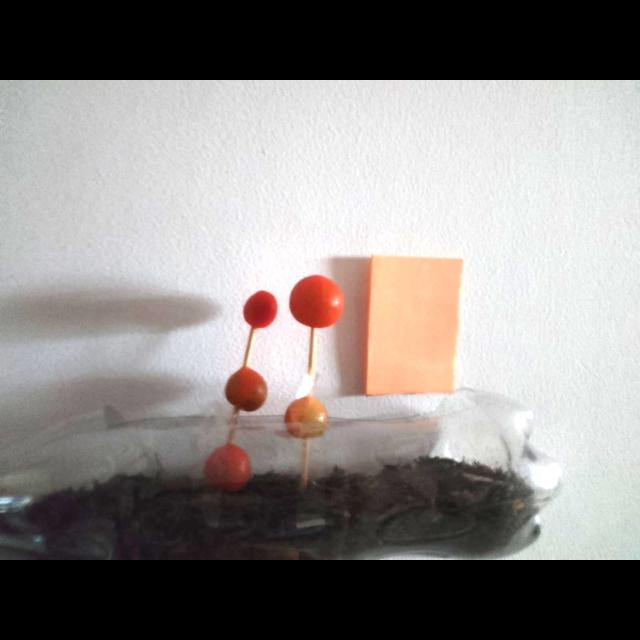card: (365, 256, 462, 395)
fruit_maturation: (285, 395, 328, 439)
fully_grown: (289, 275, 343, 328), (204, 443, 251, 492), (225, 367, 267, 411), (243, 291, 277, 329)
